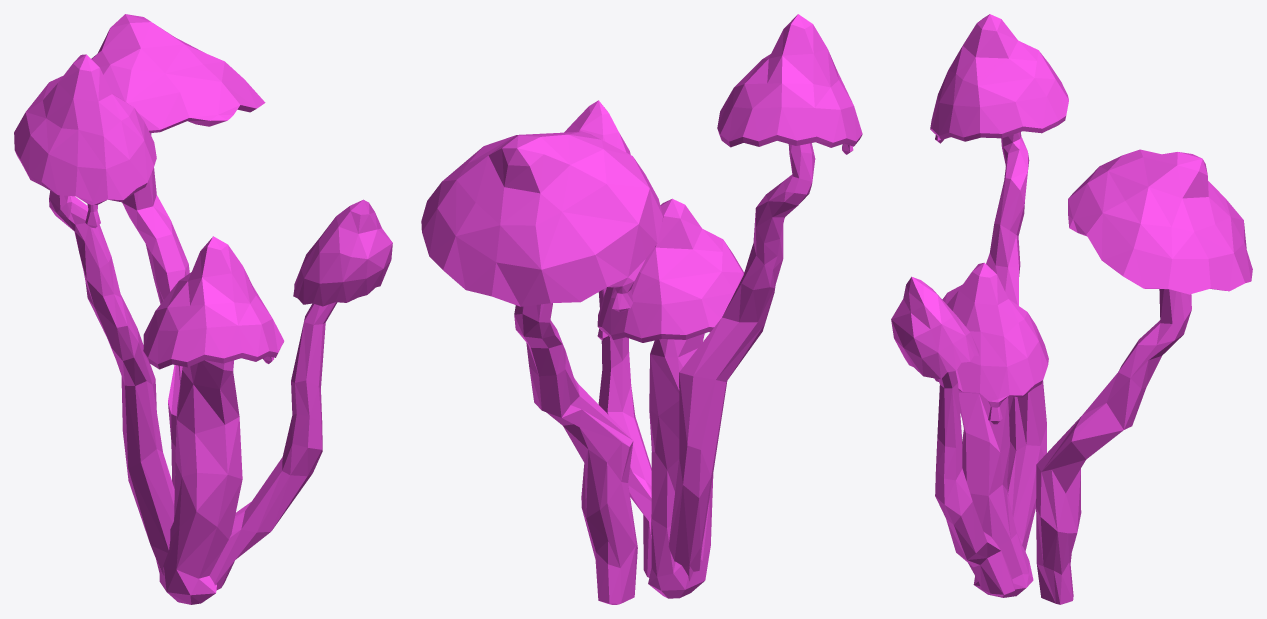
File: SM_Mushroom_Drip_Big_Cluster_B_Fantasy.fbx
3 renders of one model, left to right at view 1: azimuth 30°, elevation 25°; view 2: azimuth 150°, elevation 25°; view 3: azimuth 270°, elevation 25°, orthographic. The views are drawn at different scales.
Visible parts, largest first — view 1: SM_Mushroom_Drip_Big_Cluster_B_Fantasy; view 2: SM_Mushroom_Drip_Big_Cluster_B_Fantasy; view 3: SM_Mushroom_Drip_Big_Cluster_B_Fantasy.
Boxes of the visible parts, x1,y1,x2,y2 form: SM_Mushroom_Drip_Big_Cluster_B_Fantasy: (14,14,392,604); SM_Mushroom_Drip_Big_Cluster_B_Fantasy: (421,14,862,604); SM_Mushroom_Drip_Big_Cluster_B_Fantasy: (891,14,1252,604).
Bounding box in the file's own units: 3 × 5.07 × 3.13.
